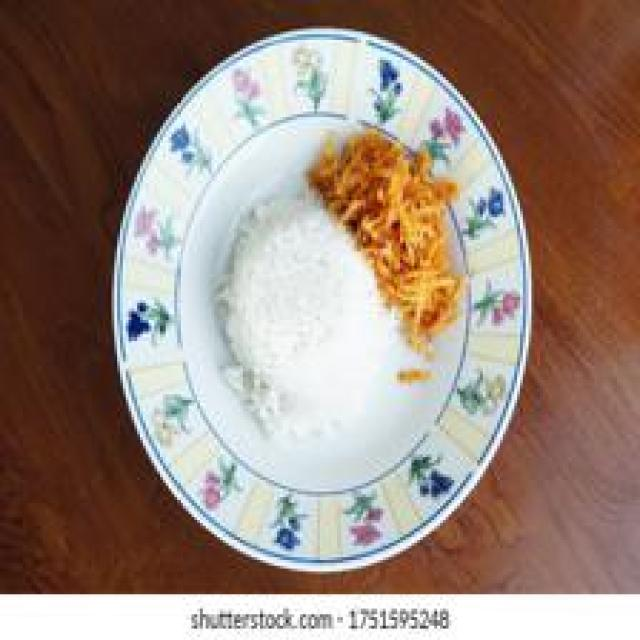Wet Waste: (220, 190, 408, 421)
